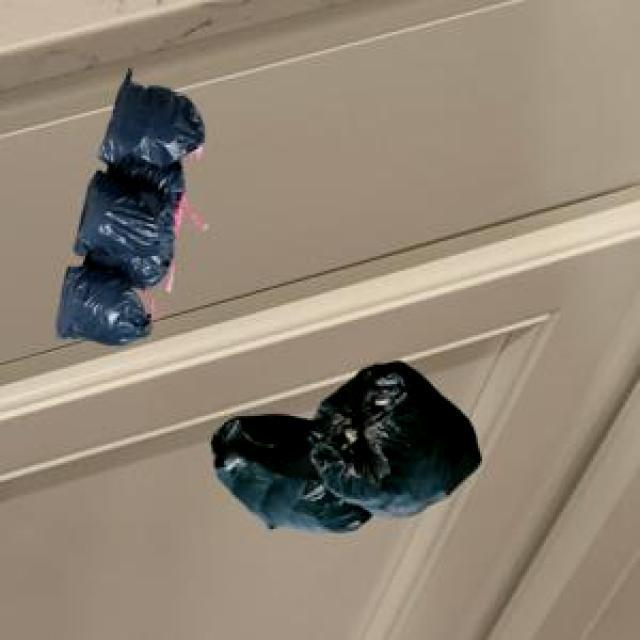Trashbag: (298, 357, 485, 488), (209, 408, 337, 536), (67, 176, 195, 276), (91, 88, 239, 165), (32, 266, 152, 356)
